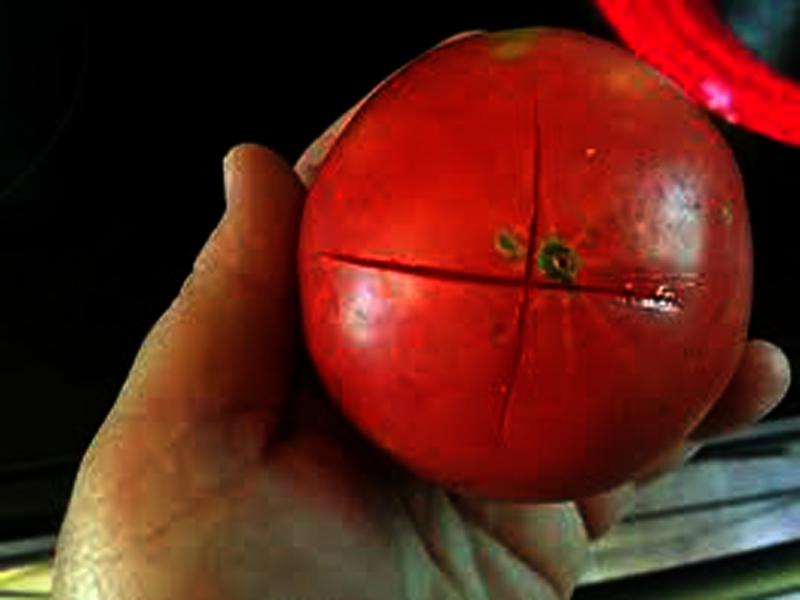Tomato: (293, 28, 757, 504)
